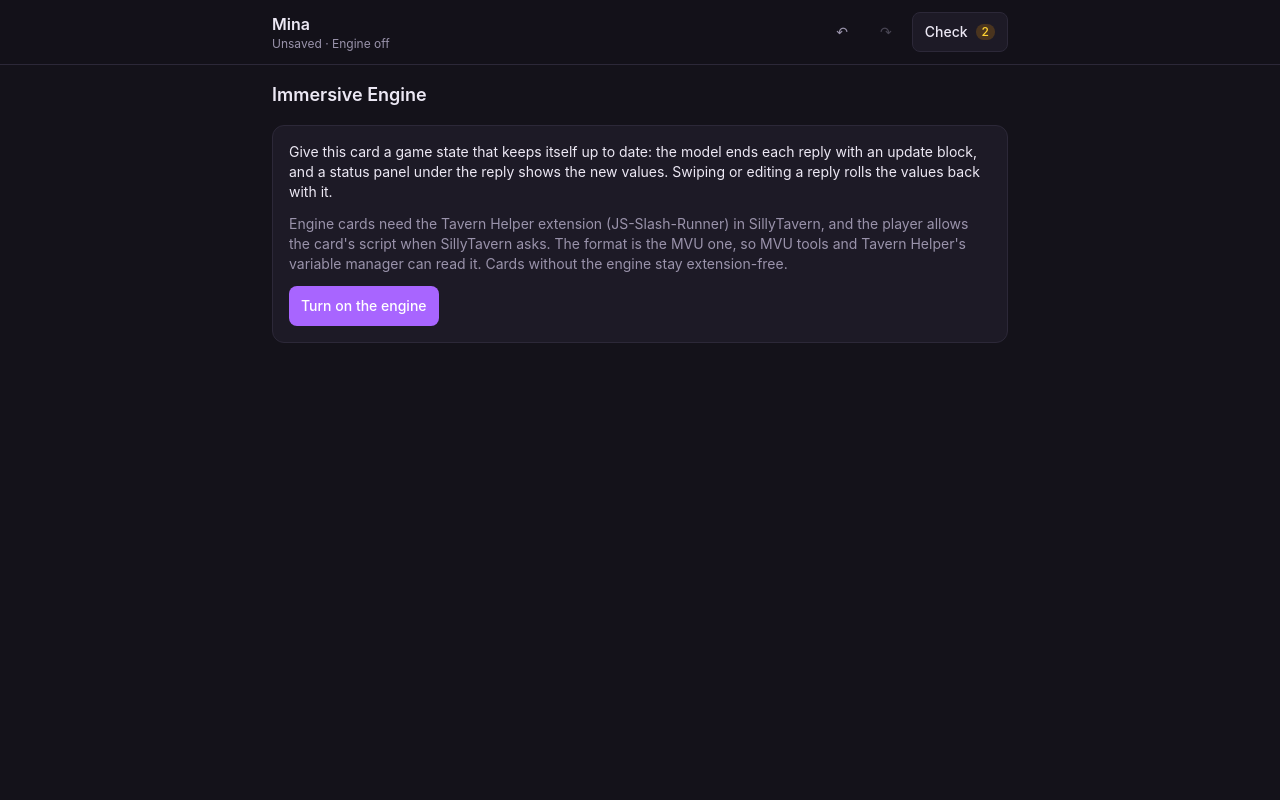
UI engineer › refuses building tools to the lead, shows the worker live, and runs the worker on its own model
Click the button "Turn on the engine" at (364, 306), box [289, 286, 438, 326]
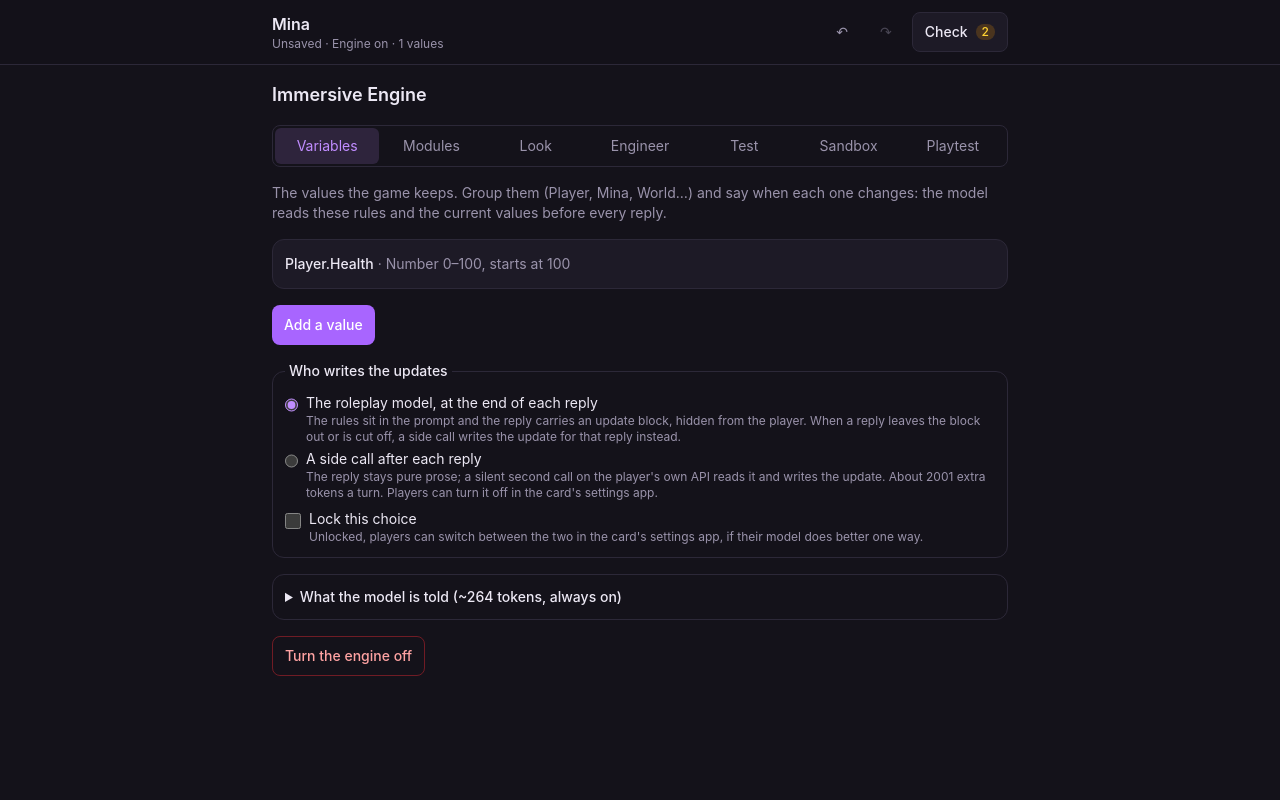
Click the tab "Engineer" at (640, 146), box [588, 128, 692, 164]
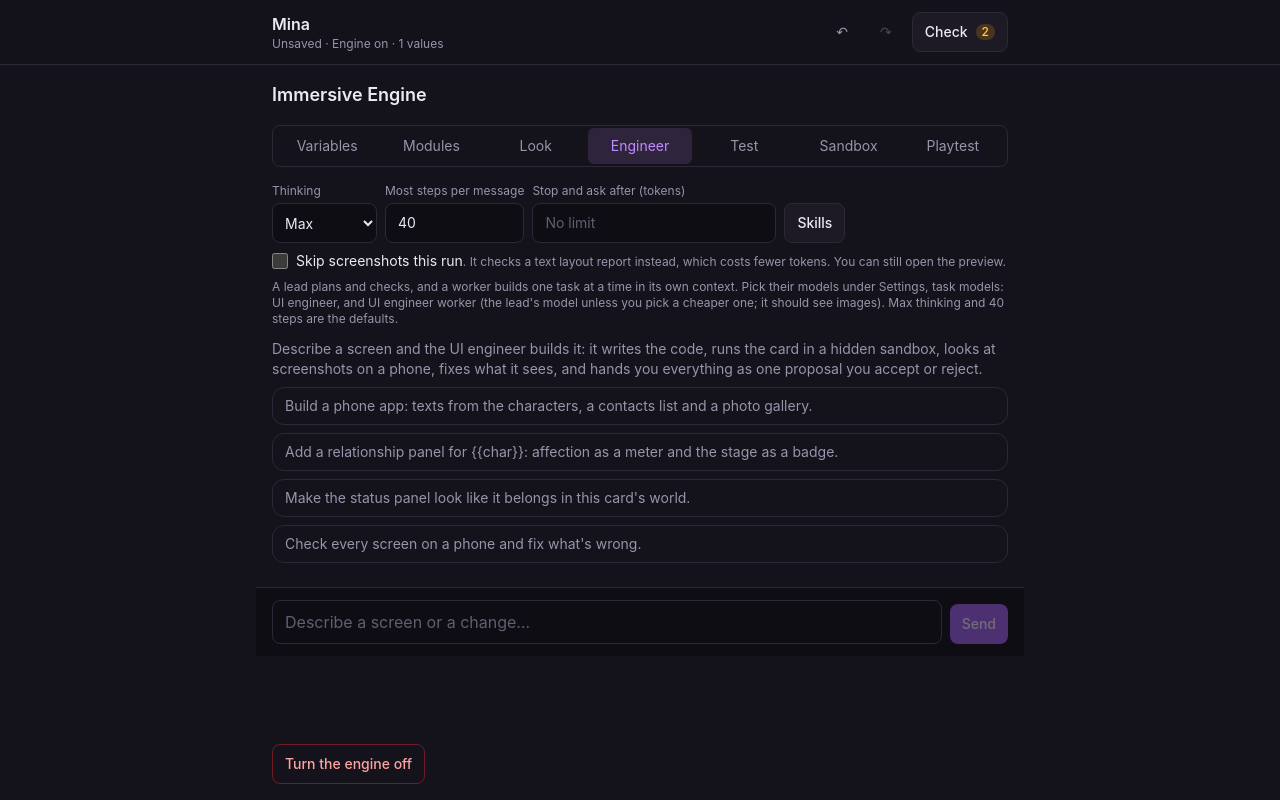
Type "Panel" into the text box named "Message to the UI engineer" at (607, 622), box [272, 600, 942, 644]
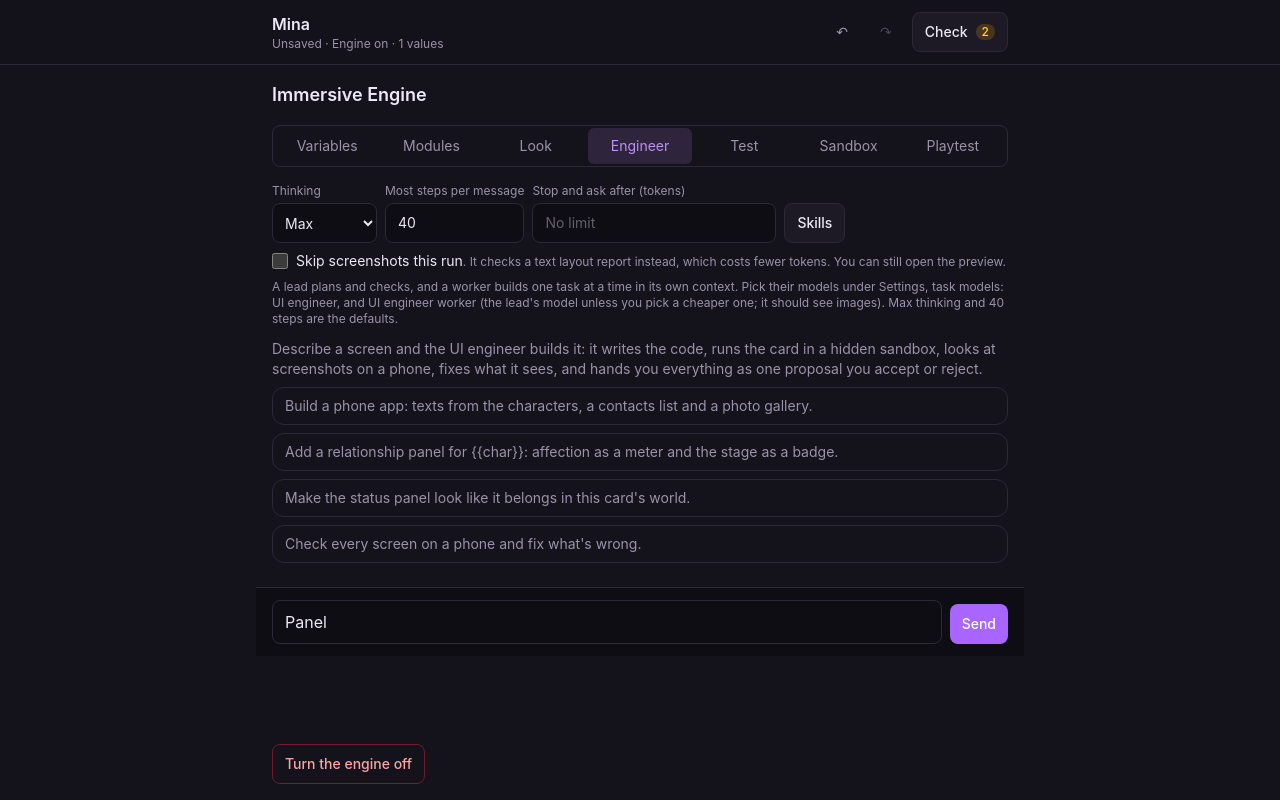
Click the button "Send" at (979, 624), box [950, 604, 1008, 644]
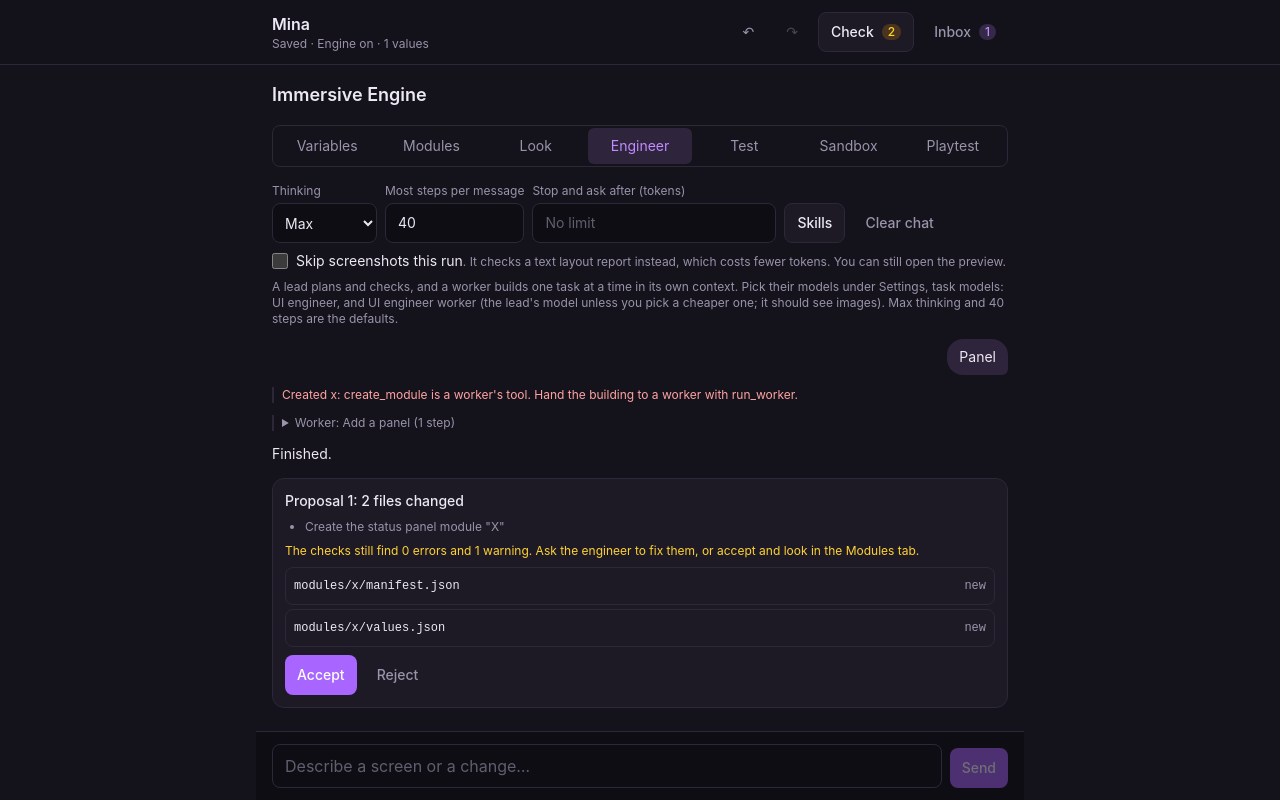
Expected: the element "Proposal 1" is shown, [272, 478, 1008, 708]
